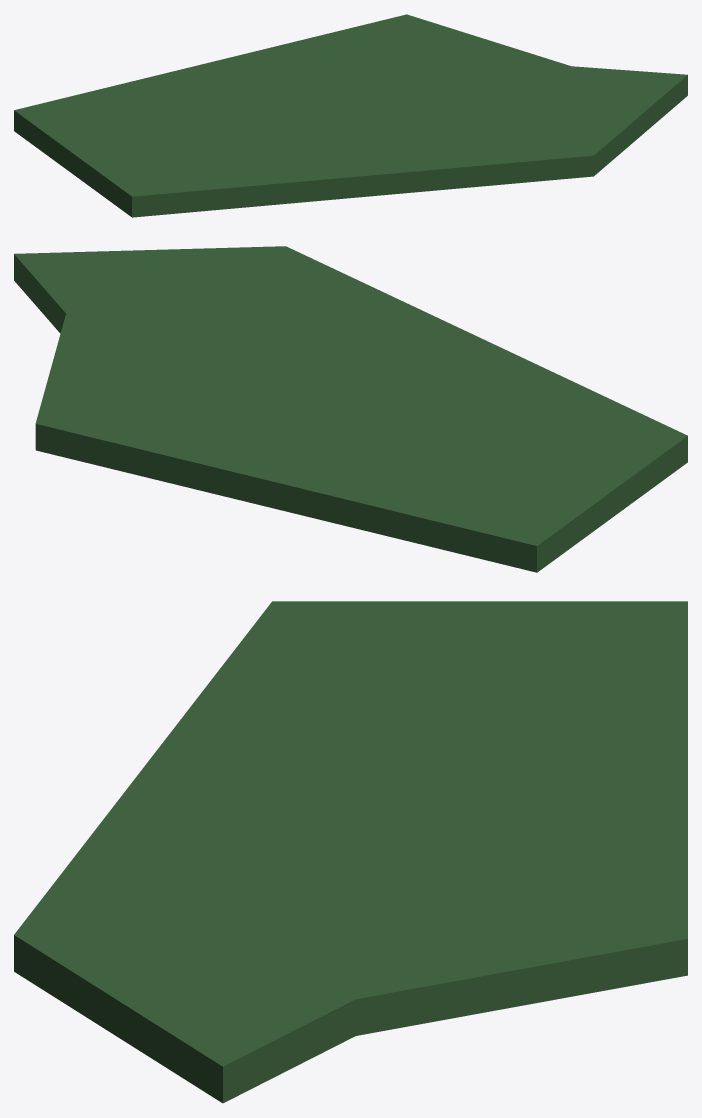
The model's file is x_proval_00_62_1_rmstrd.fbx.
3 views of the same model, one above another, from view 1: azimuth 30°, elevation 25°; view 2: azimuth 150°, elevation 25°; view 3: azimuth 270°, elevation 25° (orthographic). The views are drawn at different scales.
Visible parts, largest first — view 1: x_proval_00_62_1_rmstrd1; view 2: x_proval_00_62_1_rmstrd1; view 3: x_proval_00_62_1_rmstrd1.
Boxes of the visible parts, bbox=[...] form: x_proval_00_62_1_rmstrd1: bbox=[14, 14, 687, 217]; x_proval_00_62_1_rmstrd1: bbox=[14, 246, 687, 572]; x_proval_00_62_1_rmstrd1: bbox=[14, 601, 687, 1103].
Size of the model in its own units: 5.43 by 0.2 by 3.32.
